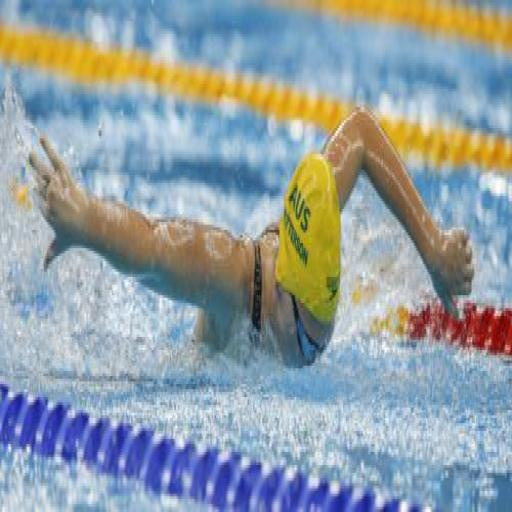swimming: (26, 102, 476, 373)
